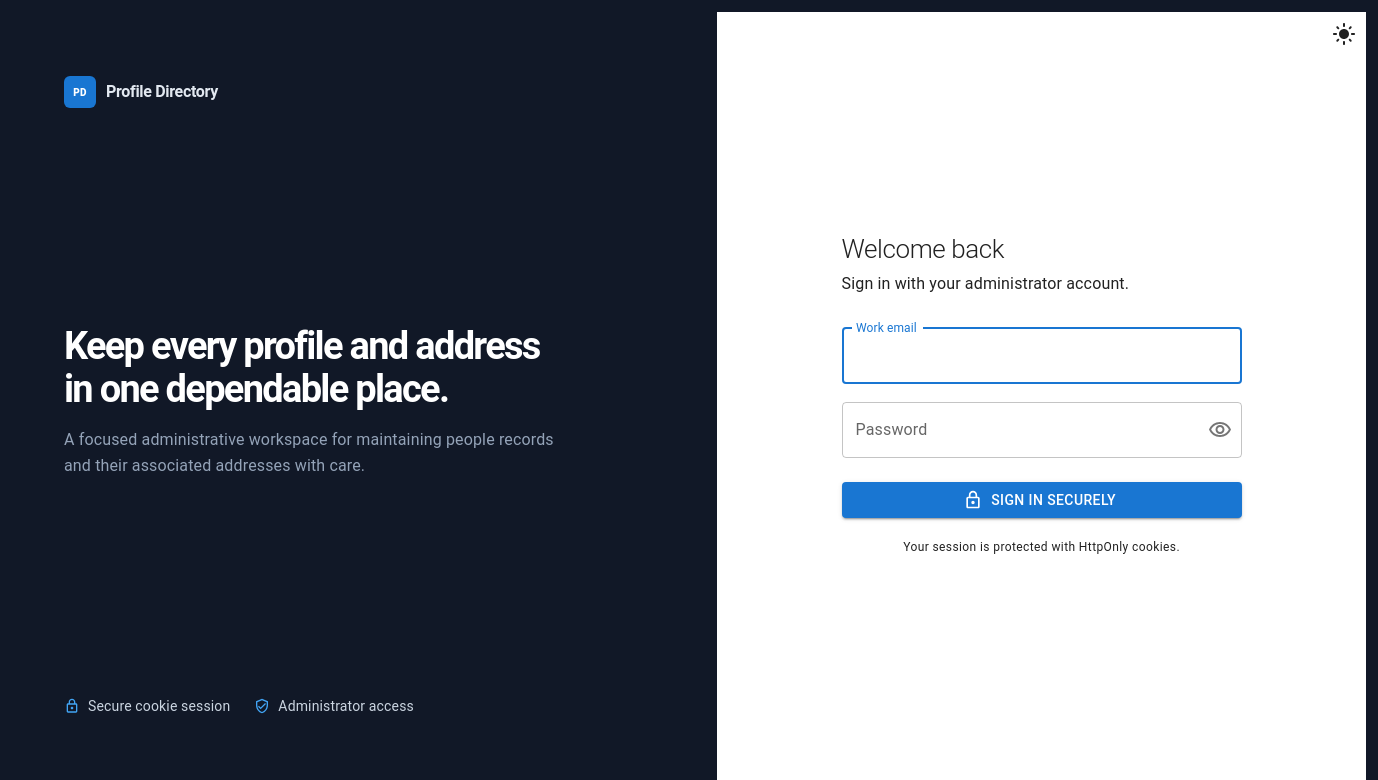
Test: LoginPage › shows a linked validation summary and inline errors when submitted empty
The image size is (1378, 780).
Click the button "Sign in securely" at (1042, 500), box [842, 482, 1242, 518]
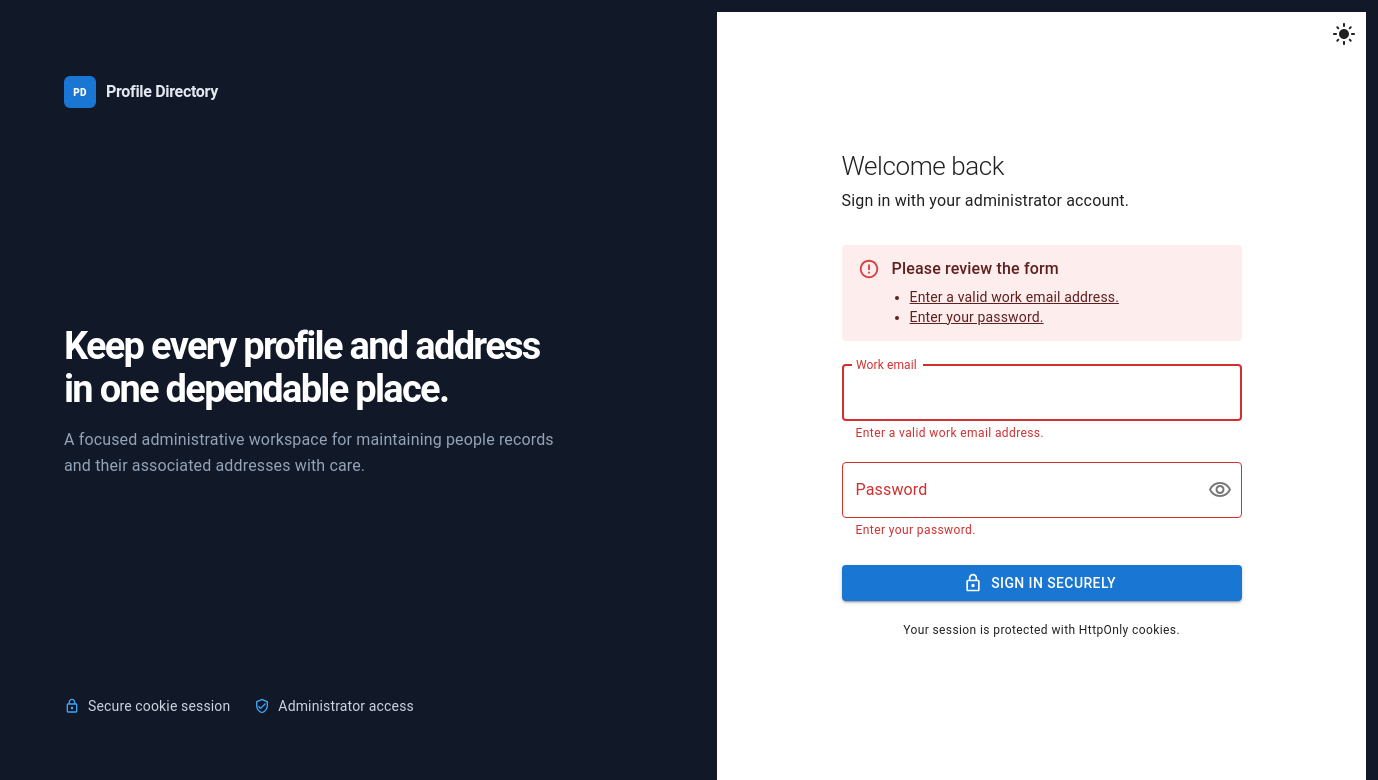
Now the message shows "Please review the form", box [892, 259, 1059, 278]
Now the number of links "Enter a valid work email address." is 2, box [910, 289, 1119, 305]; [856, 426, 1044, 440]
Now the number of links "Enter your password." is 2, box [910, 309, 1044, 325]; [856, 523, 976, 537]
